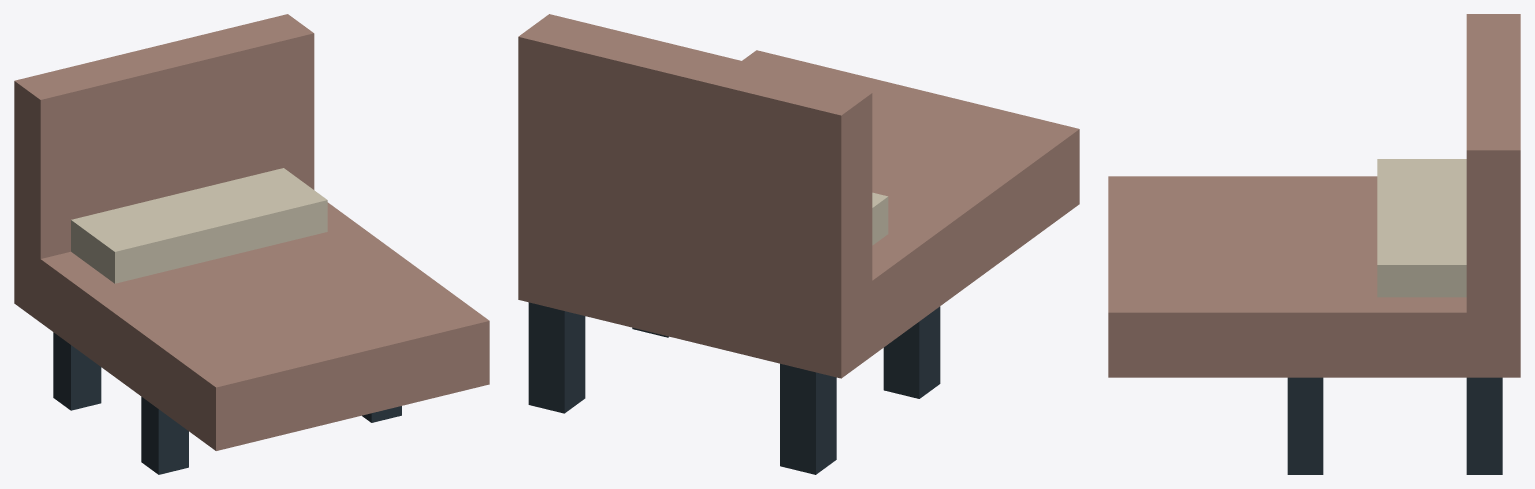
The model's file is hospitality-04.glb.
3 renders of one model, left to right at view 1: azimuth 30°, elevation 25°; view 2: azimuth 150°, elevation 25°; view 3: azimuth 270°, elevation 25°, orthographic. The views are drawn at different scales.
Parts seen in each view (by area): view 1: Hotel bed; view 2: Hotel bed; view 3: Hotel bed.
Part boxes in pixels (<box>): Hotel bed: <box>14,14,489,474</box>; Hotel bed: <box>518,14,1079,474</box>; Hotel bed: <box>1108,14,1520,474</box>.
Size of the model in its own units: 1.44 by 1.6 by 1.84.
